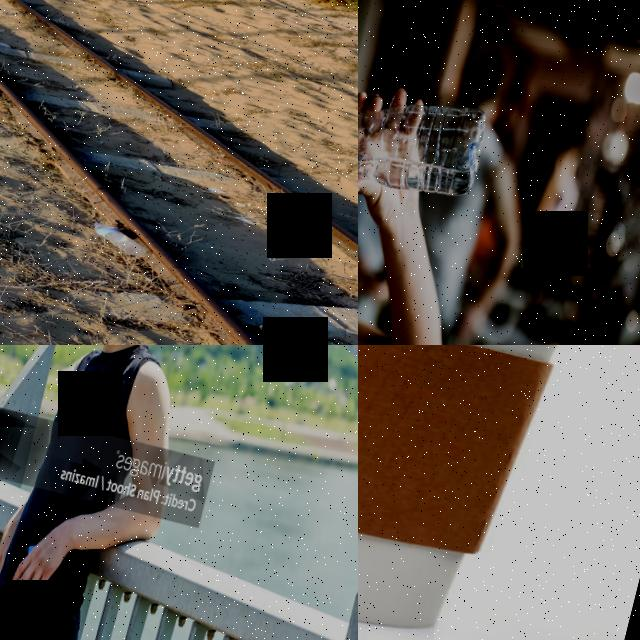bottle: (358, 60, 492, 215), (0, 540, 58, 640)
cup: (358, 345, 611, 640)
